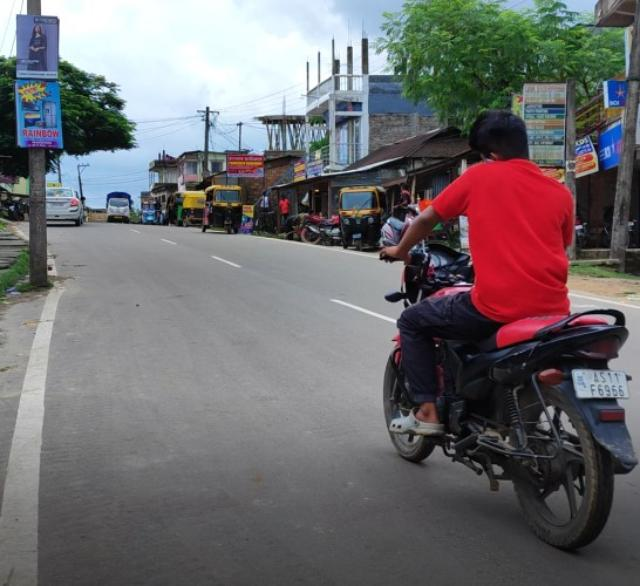licensePlate: (571, 368, 629, 399)
motorcycle: (380, 105, 640, 551)
withoutHelmet: (463, 114, 539, 166)
